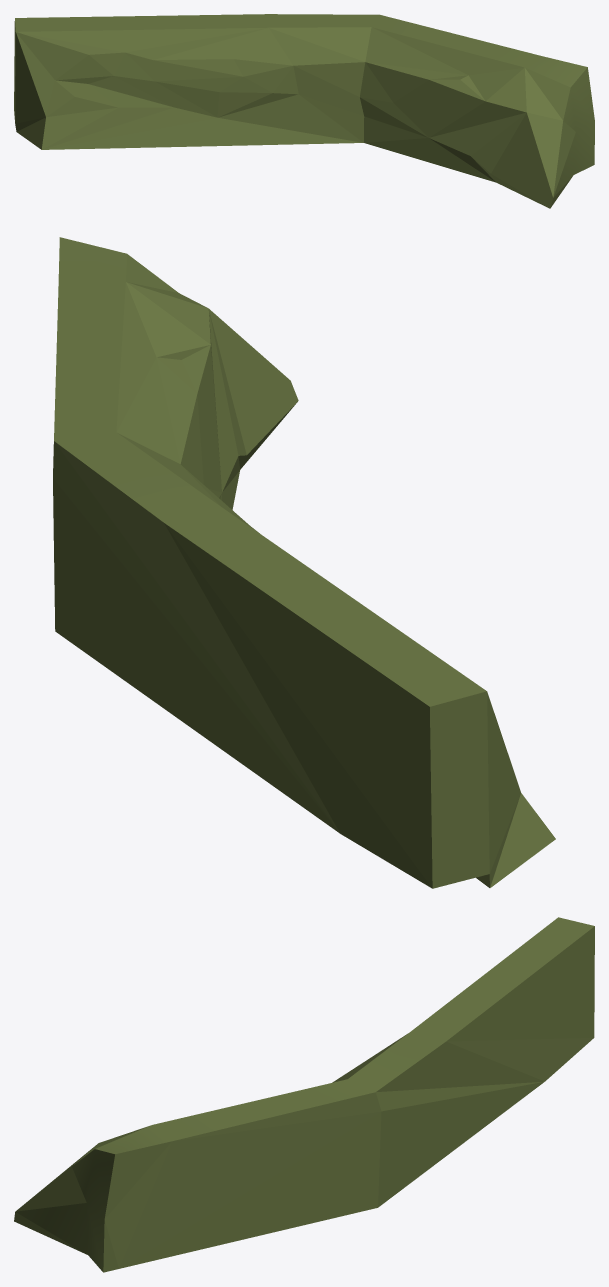
File: ground_39.fbx
3 renders of one model, top to bottom at view 1: azimuth 30°, elevation 25°; view 2: azimuth 150°, elevation 25°; view 3: azimuth 270°, elevation 25°, orthographic. The views are drawn at different scales.
Visible parts, largest first — view 1: ground_39; view 2: ground_39; view 3: ground_39.
Part boxes in pixels (x1,y1,x2,y2): ground_39: [14, 14, 594, 208]; ground_39: [53, 237, 555, 888]; ground_39: [14, 917, 594, 1272].
Bounding box in the file's own units: 4.59 × 1.1 × 4.67.
